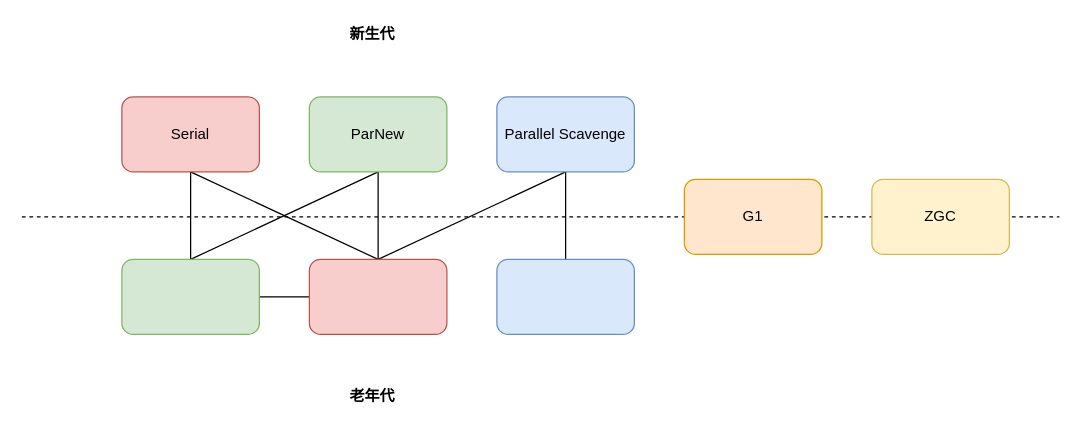
The diagram is 1081 pixels wide and 430 high, and some of its shapes have lost their labels. The shapes that lost their labels are listed below. From the top down, each one's centre as x and y in pixels, then its label:
(x=190, y=296): CMS
(x=377, y=296): Serial Old
(x=565, y=296): Parallel Old
